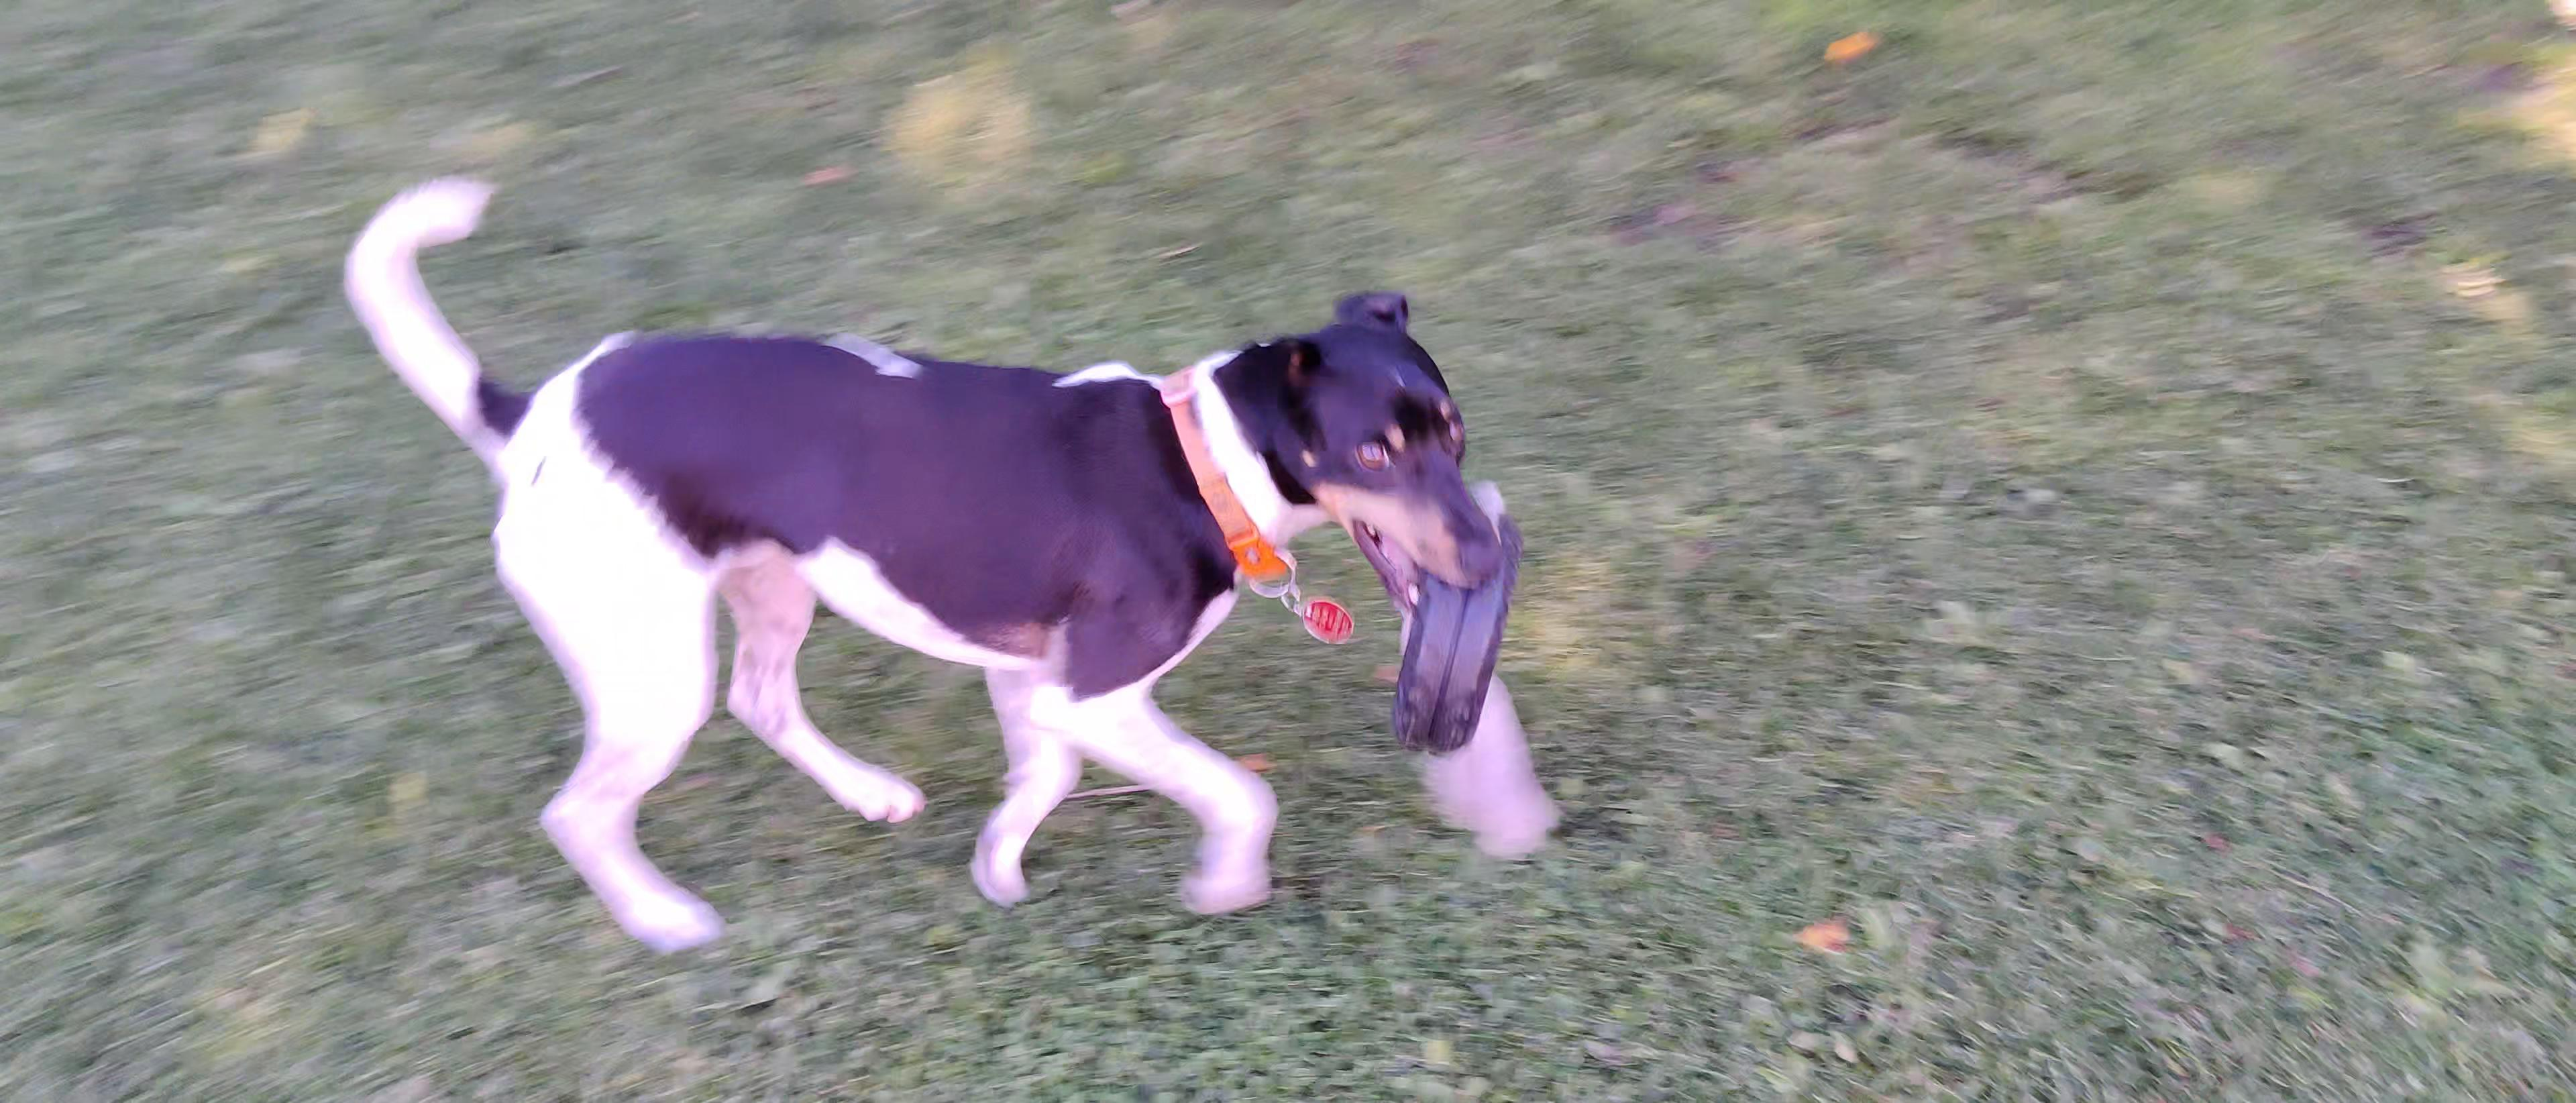Dog: (333, 173, 1515, 962)
